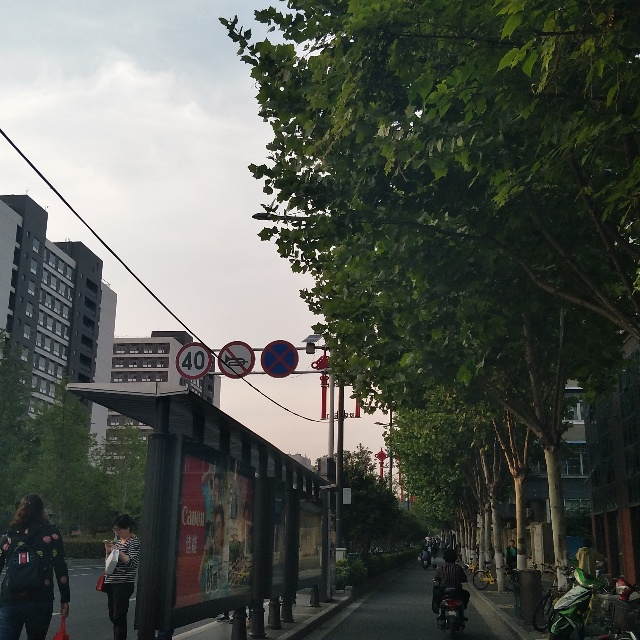nohonk: (217, 343, 253, 375)
stop: (263, 341, 297, 377)
